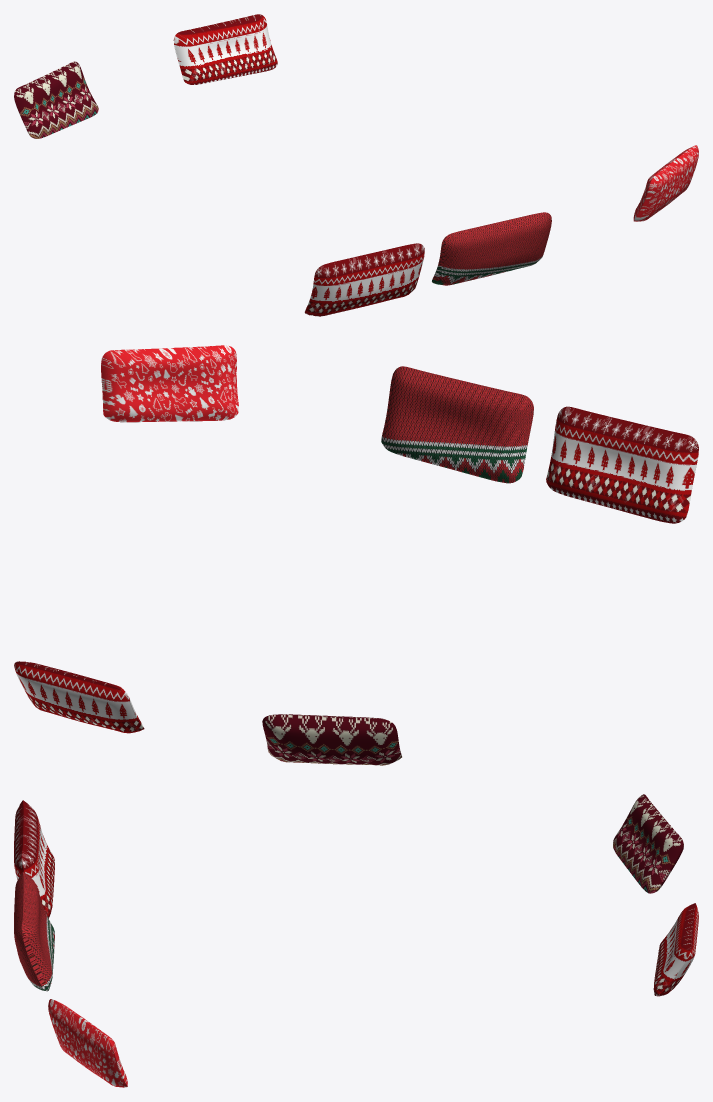
The model's file is Almohadas.fbx.
3 views of the same model, one above another, from view 1: azimuth 30°, elevation 25°; view 2: azimuth 150°, elevation 25°; view 3: azimuth 270°, elevation 25° (orthographic). The views are drawn at different scales.
Visible parts, largest first — view 1: polySurface356; view 2: polySurface356; view 3: polySurface356.
Boxes of the visible parts, x1=… form: polySurface356: x1=14, y1=14, x2=698, y2=316; polySurface356: x1=14, y1=345, x2=698, y2=765; polySurface356: x1=14, y1=794, x2=698, y2=1087.
Bounding box in the file's own units: 19.09 × 2.48 × 21.62.
4 materials, 4 textured.
